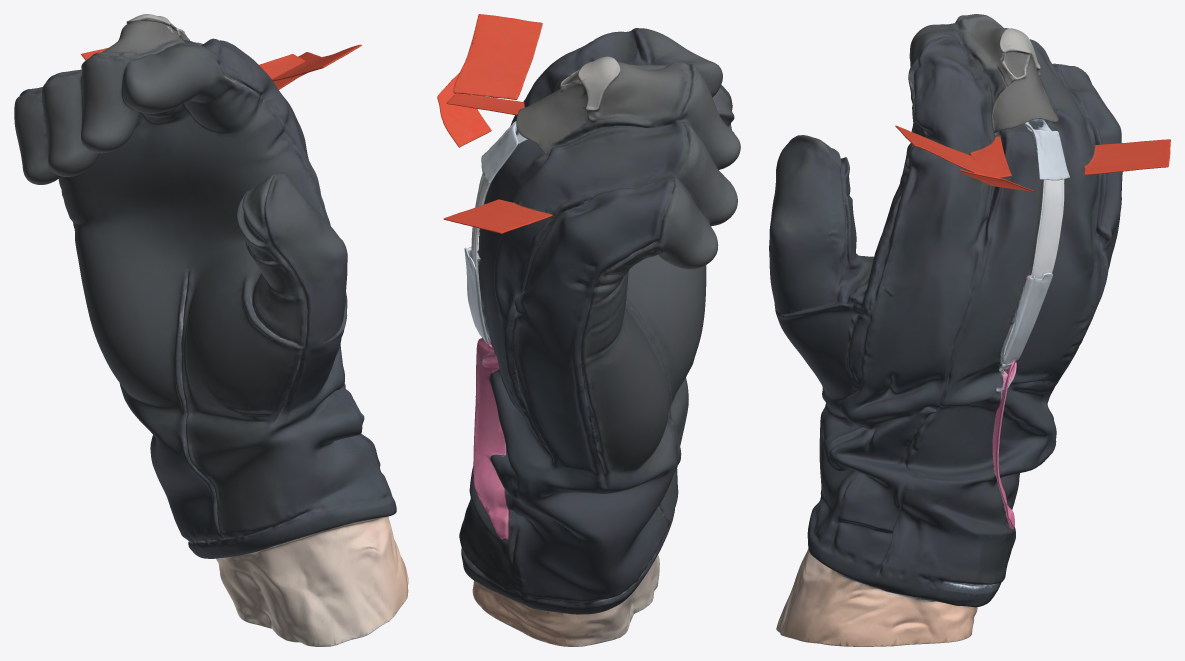
Rendered from data-glove.glb.
3 renders of one model, left to right at view 1: azimuth 30°, elevation 25°; view 2: azimuth 150°, elevation 25°; view 3: azimuth 270°, elevation 25°, orthographic. The views are drawn at different scales.
Visible parts, largest first — view 1: tripo_node_fdf62d88-26e0-4392-9ca6-1a50f0fbf6f9; view 2: tripo_node_fdf62d88-26e0-4392-9ca6-1a50f0fbf6f9; view 3: tripo_node_fdf62d88-26e0-4392-9ca6-1a50f0fbf6f9.
Boxes of the visible parts, x1,y1,x2,y2 form: tripo_node_fdf62d88-26e0-4392-9ca6-1a50f0fbf6f9: [14, 14, 408, 646]; tripo_node_fdf62d88-26e0-4392-9ca6-1a50f0fbf6f9: [437, 14, 740, 646]; tripo_node_fdf62d88-26e0-4392-9ca6-1a50f0fbf6f9: [769, 14, 1170, 646].
Size of the model in its own units: 0.5187 by 1 by 0.6428.
1 material, 1 textured.
